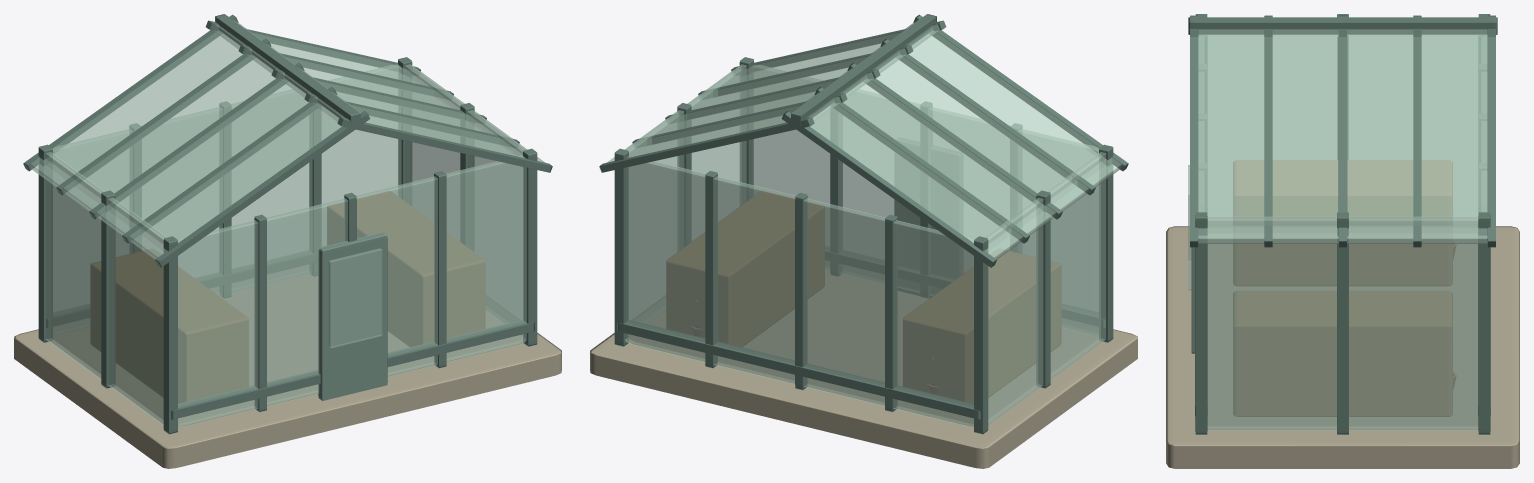
File: greenhouse-0.glb
3 views of the same model, side by side, from view 1: azimuth 30°, elevation 25°; view 2: azimuth 150°, elevation 25°; view 3: azimuth 270°, elevation 25° (orthographic). The views are drawn at different scales.
Parts seen in each view (by area): view 1: greenhouse-0-0; view 2: greenhouse-0-0; view 3: greenhouse-0-0.
Part boxes in pixels (x1,y1,x2,y2): greenhouse-0-0: (14, 14, 561, 468); greenhouse-0-0: (590, 14, 1137, 468); greenhouse-0-0: (1166, 14, 1519, 468).
Size of the model in its own units: 2.8 by 2.01 by 1.9.
